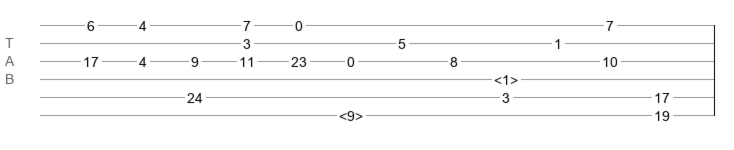0: (295, 18, 303, 28), (347, 54, 355, 64)
1: (554, 36, 562, 46)
10: (602, 54, 618, 64)
11: (239, 54, 255, 64)
17: (83, 54, 99, 64), (654, 90, 670, 100)
19: (654, 108, 670, 118)
23: (291, 54, 307, 64)
24: (187, 90, 203, 100)
3: (243, 36, 251, 46), (502, 90, 510, 100)
4: (139, 54, 147, 64), (139, 18, 147, 28)
5: (398, 36, 406, 46)
6: (87, 18, 95, 28)
7: (243, 18, 251, 28), (606, 18, 614, 28)
8: (450, 54, 458, 64)
9: (191, 54, 199, 64)
harmonic: (339, 108, 363, 118), (494, 72, 518, 82)
